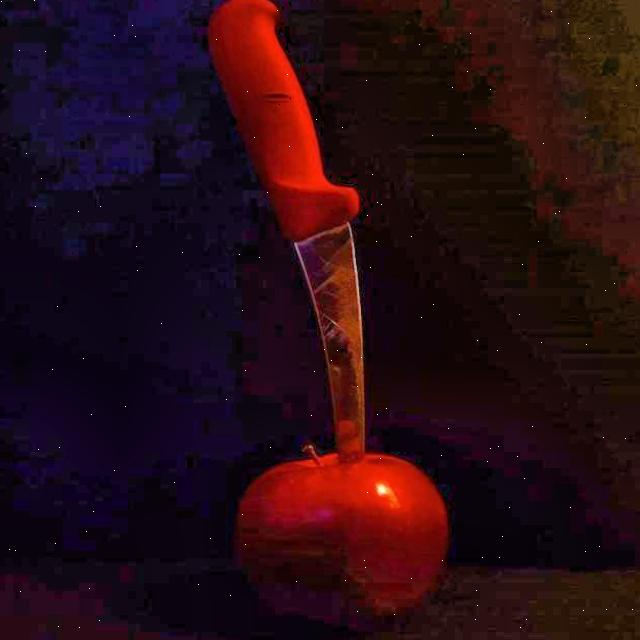knife: (206, 0, 413, 473)
